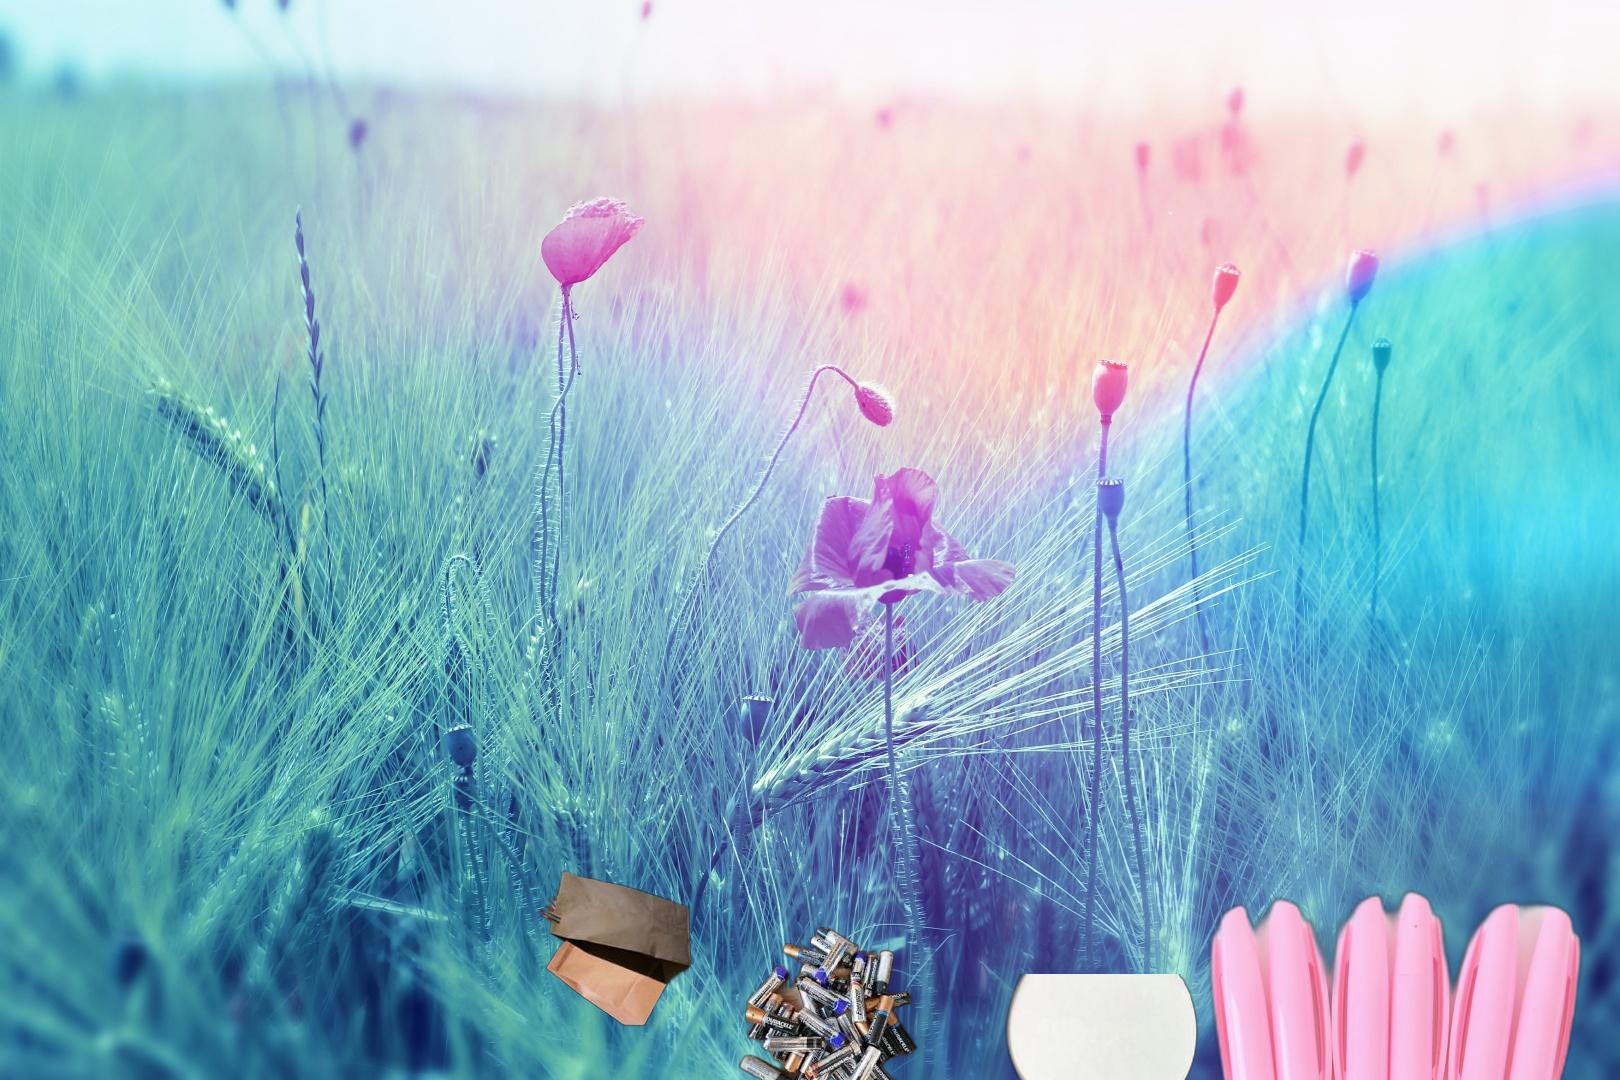battery: (736, 927, 920, 1080)
paper: (1000, 974, 1424, 1080)
paper-bag: (538, 869, 694, 1029)
penholder: (1204, 885, 1587, 1080)
